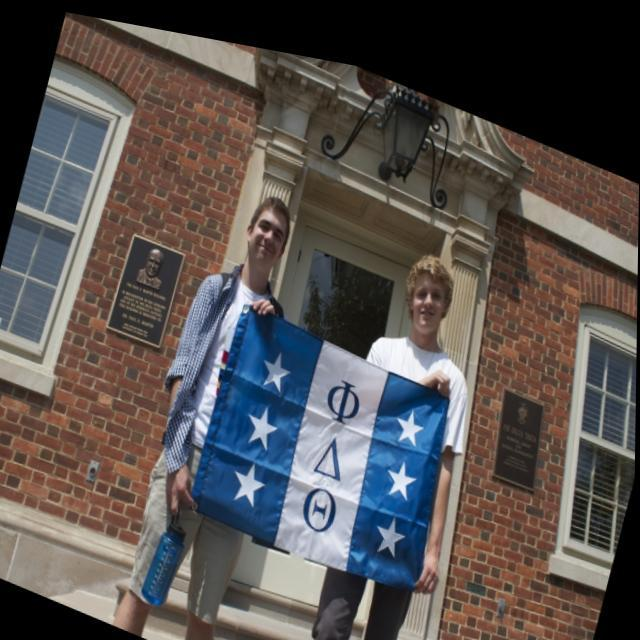Nonhelmet: (396, 240, 459, 337), (237, 189, 298, 280)
